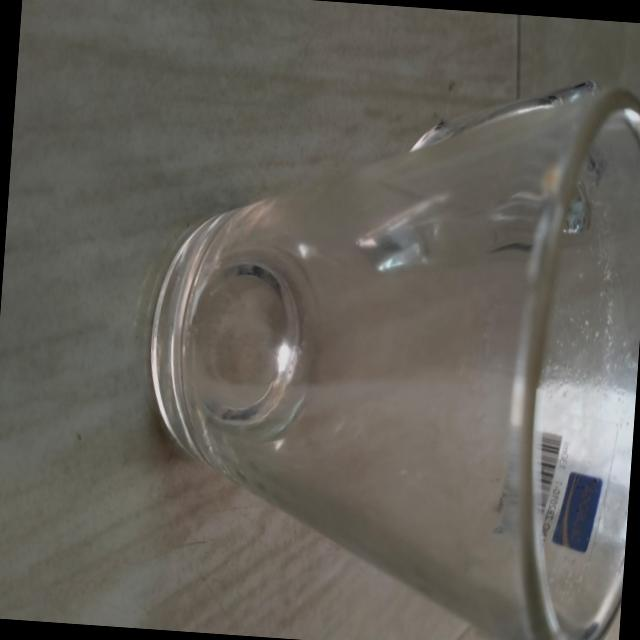glass-VX4N: (128, 41, 640, 640)
